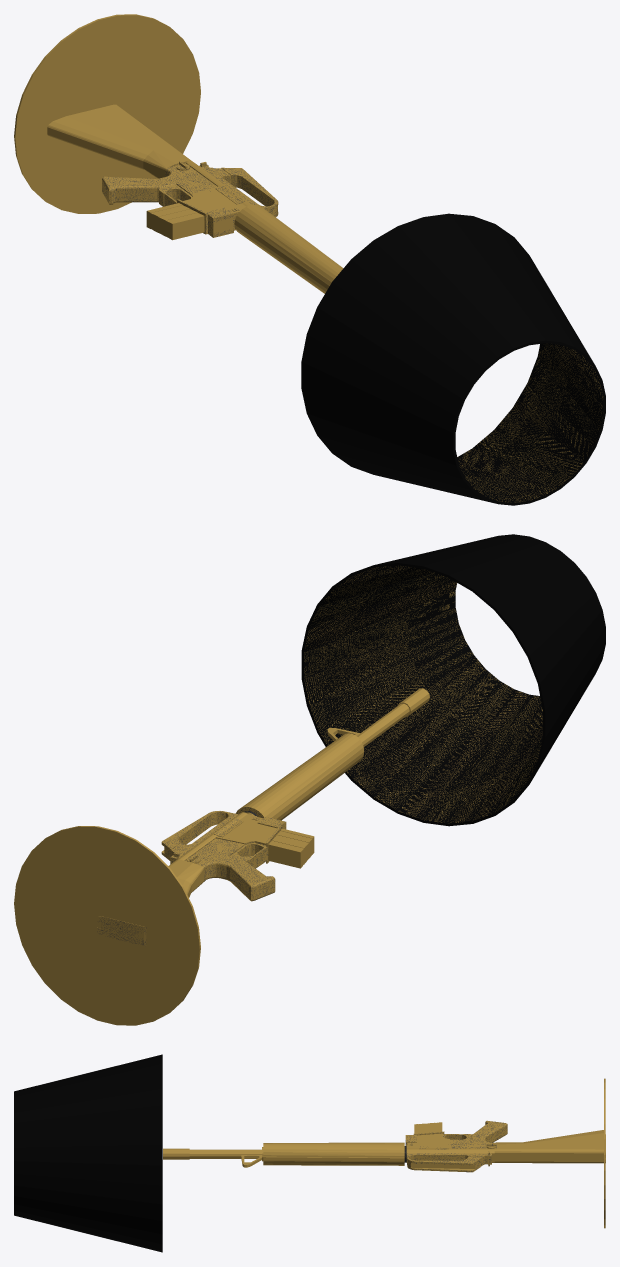
3 views of the same model, one above another, from view 1: azimuth 30°, elevation 25°; view 2: azimuth 150°, elevation 25°; view 3: azimuth 270°, elevation 25° (orthographic). The views are drawn at different scales.
Parts seen in each view (by area): view 1: gun lounge gun design by philippe starck in; view 2: gun lounge gun design by philippe starck in; view 3: gun lounge gun design by philippe starck in.
Part boxes in pixels (x1=…): gun lounge gun design by philippe starck in: x1=14, y1=14, x2=605, y2=505; gun lounge gun design by philippe starck in: x1=14, y1=534, x2=605, y2=1025; gun lounge gun design by philippe starck in: x1=14, y1=1054, x2=605, y2=1252.
Bounding box in the file's own units: 22.22 × 22.34 × 66.72.
